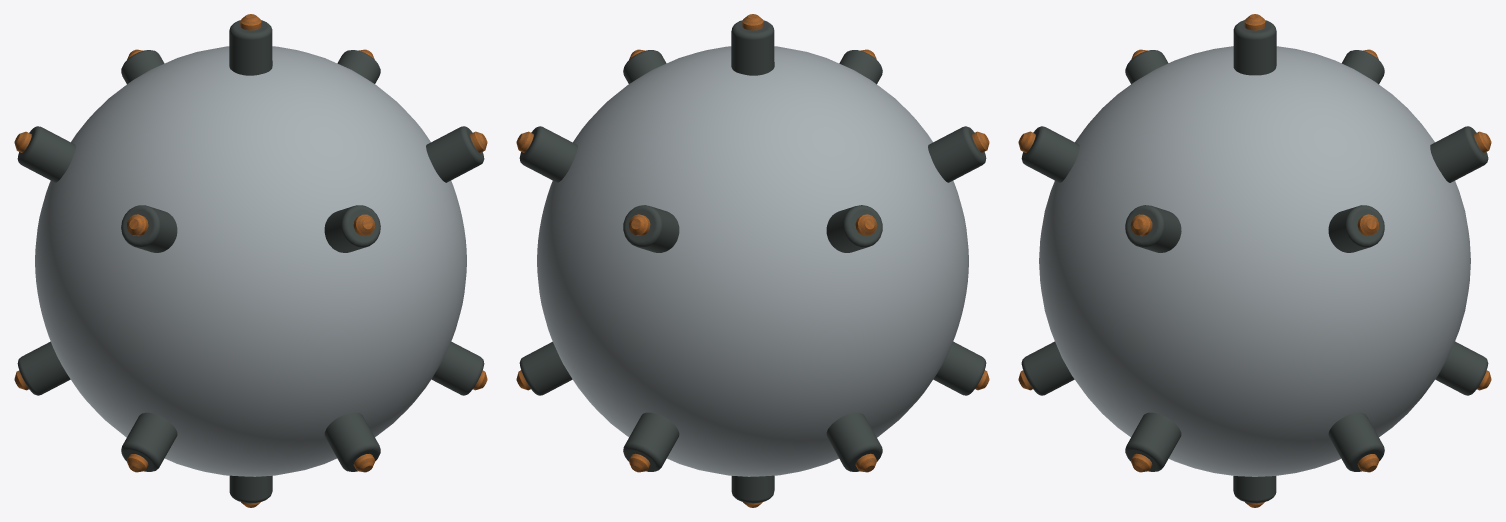
The model's file is mine.obj.
3 renders of one model, left to right at view 1: azimuth 30°, elevation 25°; view 2: azimuth 150°, elevation 25°; view 3: azimuth 270°, elevation 25°, orthographic.
Parts seen in each view (by area): view 1: Sphere, Axis, Detonator; view 2: Sphere, Axis, Detonator; view 3: Sphere, Axis, Detonator.
Boxes of the visible parts, bbox=[...] form: Sphere: bbox=[35, 46, 466, 476]; Axis: bbox=[17, 20, 484, 503]; Detonator: bbox=[14, 14, 487, 507]; Sphere: bbox=[537, 46, 968, 476]; Axis: bbox=[519, 20, 986, 503]; Detonator: bbox=[516, 14, 989, 507]; Sphere: bbox=[1039, 46, 1470, 476]; Axis: bbox=[1021, 20, 1488, 503]; Detonator: bbox=[1018, 14, 1491, 507].
Size of the model in its own units: 1 by 1.25 by 1.1.
3 materials, 1 textured.
